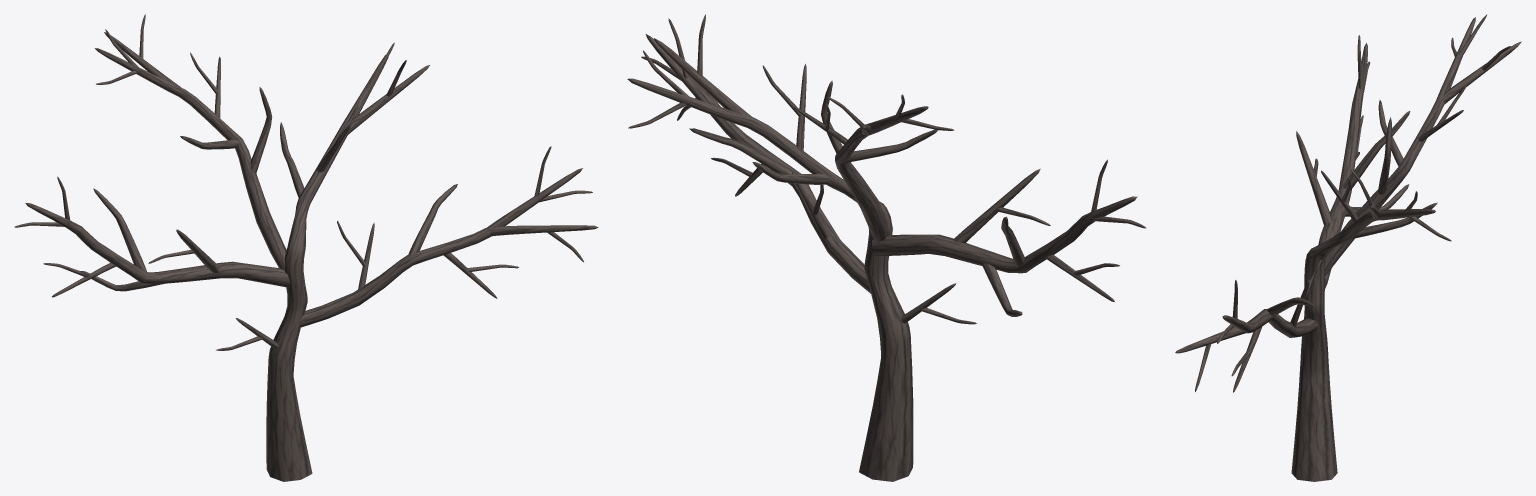
The model's file is DeadTree_8.gltf.
The picture shows the model from 3 angles, left to right: view 1: azimuth 30°, elevation 25°; view 2: azimuth 150°, elevation 25°; view 3: azimuth 270°, elevation 25°; orthographic projection. The views are drawn at different scales.
Visible parts, largest first — view 1: DeadTree_8; view 2: DeadTree_8; view 3: DeadTree_8.
Boxes of the visible parts, box(x1,y1,x2,y2) form: DeadTree_8: box(14, 14, 598, 481); DeadTree_8: box(627, 14, 1146, 481); DeadTree_8: box(1175, 14, 1521, 481).
Bounding box in the file's own units: 8.17 × 6.28 × 4.8.
Materials: 1 (1 with a texture image).
